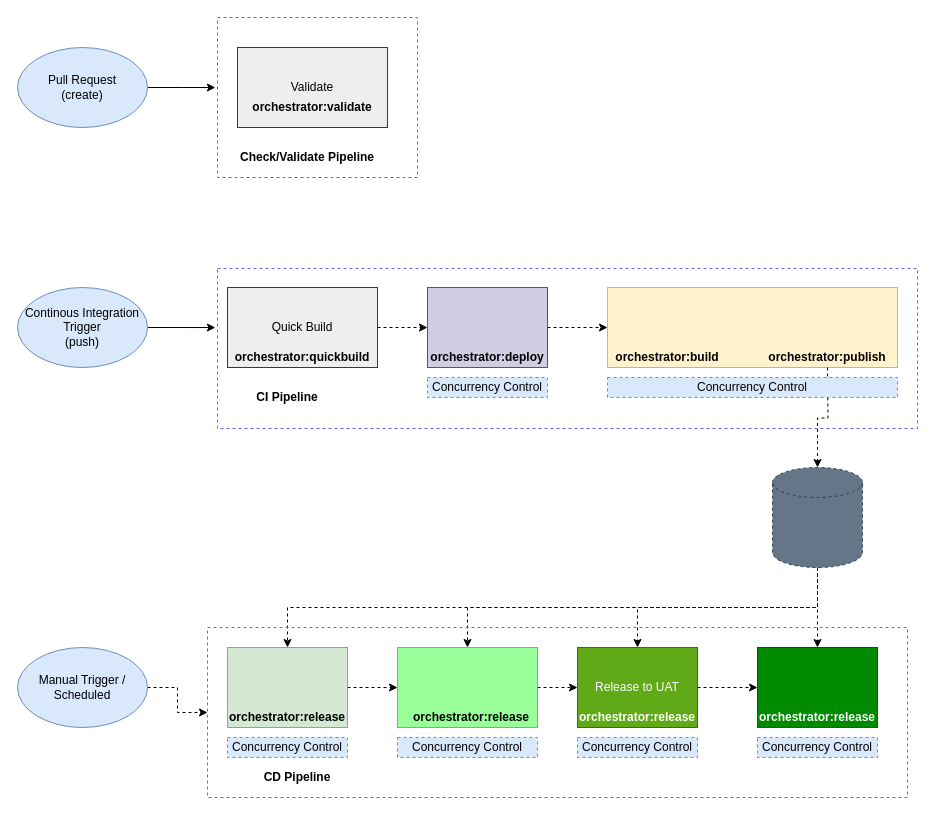
The diagram is 935 pixels wide and 815 high, and some of its shapes have lost their labels. Each missing label, with the box of its shape:
Artifact Repository: (772, 466, 862, 568)
Build & Publish: (606, 286, 898, 368)
Deploy to DEV environment: (426, 286, 548, 368)
Release to Prod: (756, 646, 878, 728)
Release to SIT: (396, 646, 538, 728)
Release to System Testing environment: (226, 646, 348, 728)
